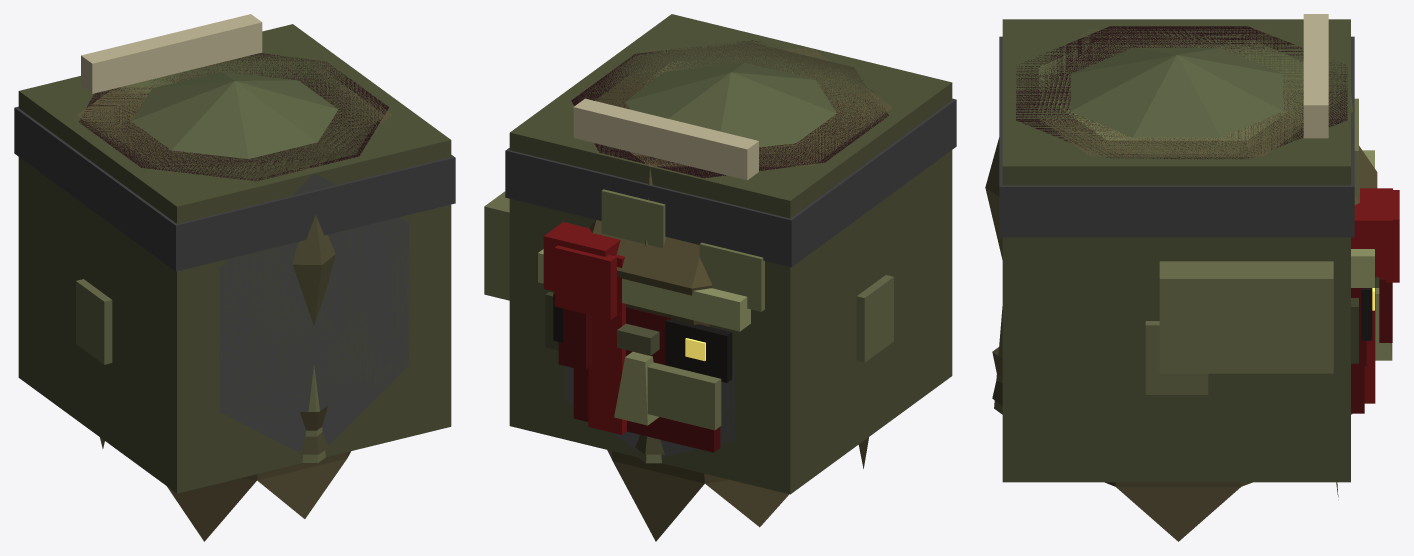
File: soldier.glb
3 renders of one model, left to right at view 1: azimuth 30°, elevation 25°; view 2: azimuth 150°, elevation 25°; view 3: azimuth 270°, elevation 25°, orthographic. The views are drawn at different scales.
Parts seen in each view (by area): view 1: torsoPouch0, footR, hips, headJaw, headHelmet, shinR, torso, uArmR, head, torsoVest, neck; view 2: torsoPouch0, hips, torso, headJaw, head, headHelmet, torsoVest, uArmR, fArmR, torsoBelly, handR, footR (+1 smaller); view 3: torsoPouch0, handR, hips, headHelmet, headJaw, torsoVest, torso, uArmR, head, torsoBelly, shinR, fArmR (+1 smaller).
Boxes of the visible parts, box(x1,y1,x2,y2) form: torsoPouch0: box(18, 24, 451, 493); footR: box(219, 173, 408, 452); hips: box(14, 83, 455, 271); headJaw: box(79, 14, 388, 181); headHelmet: box(131, 71, 338, 158); shinR: box(85, 61, 384, 454); torso: box(100, 437, 350, 541); uArmR: box(77, 57, 392, 430); head: box(76, 279, 112, 364); torsoVest: box(117, 70, 367, 172); neck: box(302, 365, 325, 462); torsoPouch0: box(509, 14, 952, 494); hips: box(505, 42, 956, 267); torso: box(554, 220, 868, 541); headJaw: box(571, 40, 888, 434); head: box(538, 249, 893, 425); headHelmet: box(625, 62, 836, 147); torsoVest: box(545, 49, 872, 350); uArmR: box(570, 48, 892, 166); fArmR: box(573, 57, 770, 452); torsoBelly: box(543, 222, 659, 355); handR: box(484, 61, 807, 300); footR: box(565, 358, 734, 457); torsoPouch0: box(1002, 19, 1350, 482); handR: box(1042, 45, 1333, 373); hips: box(999, 27, 1354, 237); headHelmet: box(1070, 48, 1282, 137); headJaw: box(1016, 14, 1375, 403); torsoVest: box(1038, 31, 1358, 363); torso: box(1105, 146, 1399, 541); uArmR: box(992, 29, 1348, 377); head: box(1145, 150, 1392, 394); torsoBelly: box(1351, 188, 1392, 287); shinR: box(985, 37, 1332, 405); fArmR: box(1032, 36, 1364, 413).
Bounding box in the file's own units: 1.15 × 1.41 × 1.19.
